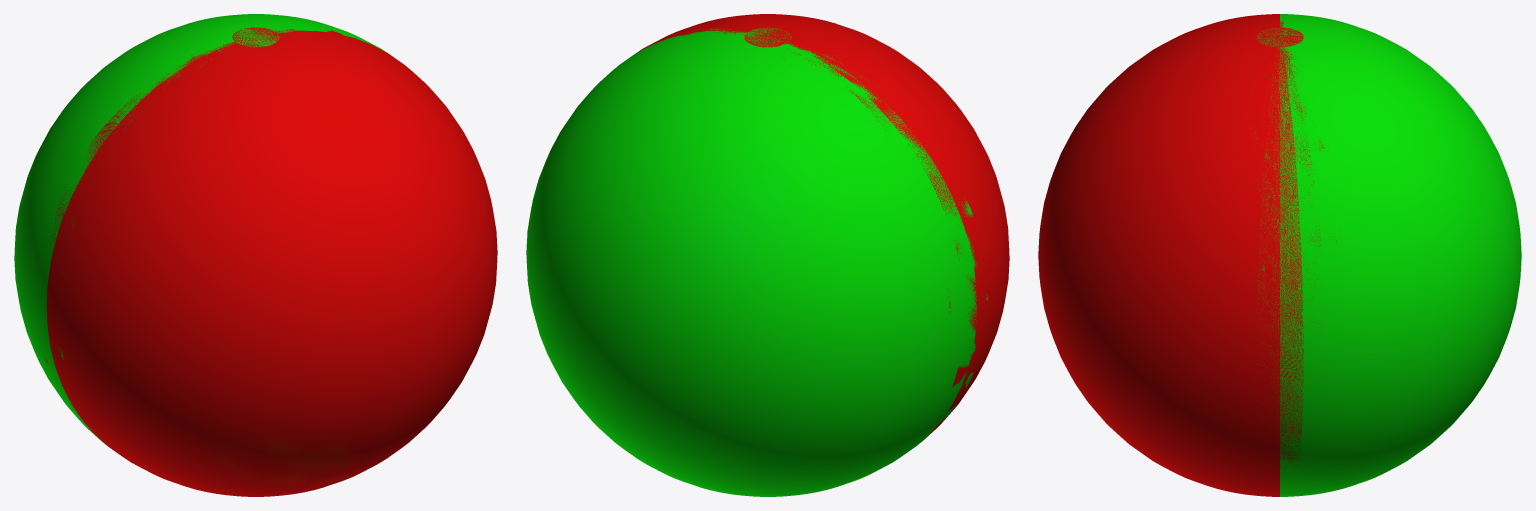
Rendered from explosion_mesh.glb.
The picture shows the model from 3 angles, left to right: view 1: azimuth 30°, elevation 25°; view 2: azimuth 150°, elevation 25°; view 3: azimuth 270°, elevation 25°; orthographic projection.
Parts seen in each view (by area): view 1: Sphere; view 2: Sphere; view 3: Sphere.
Part boxes in pixels (box(x1,y1,x2,y2)): Sphere: box(14, 14, 497, 496); Sphere: box(526, 14, 1009, 496); Sphere: box(1038, 14, 1521, 496).
Size of the model in its own units: 2 by 1.99 by 2.
